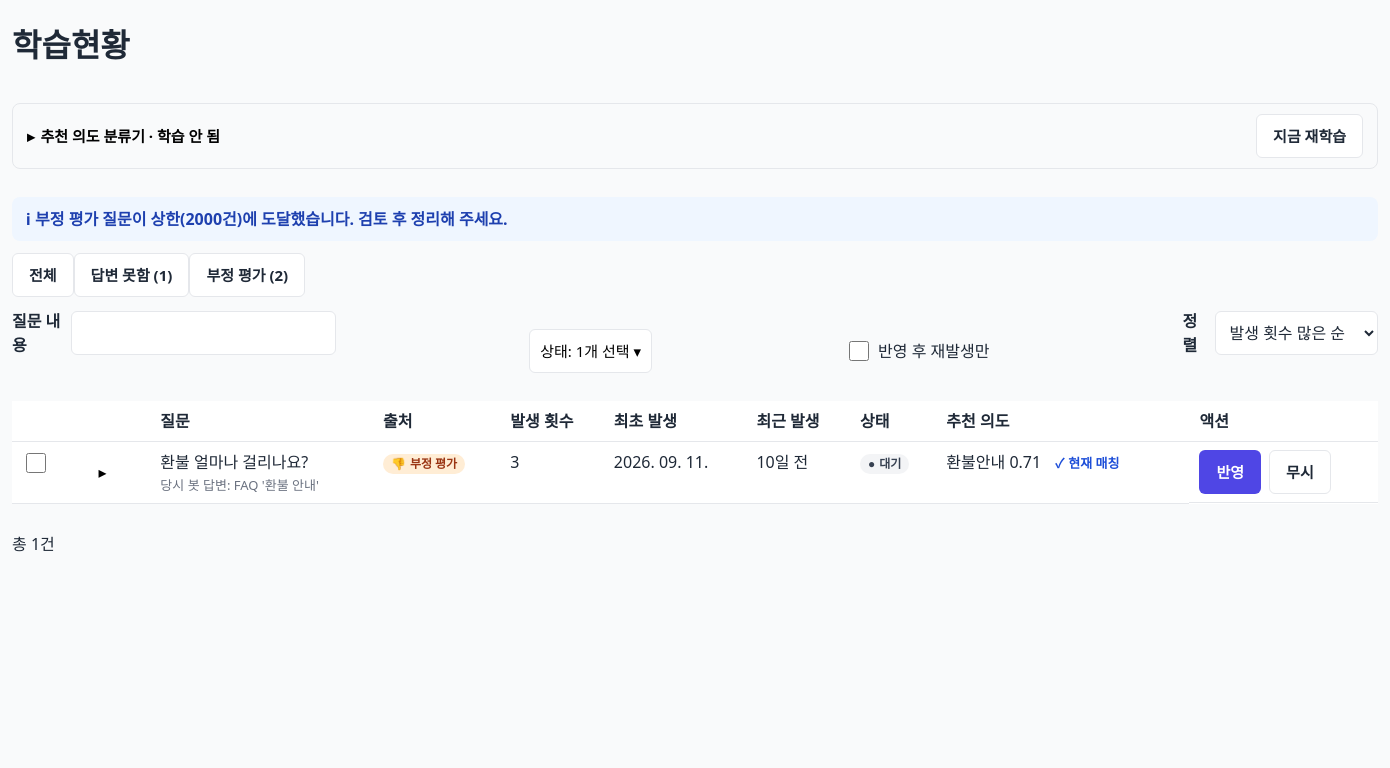
Test case: LearningQueuePage — 부정 평가 소스 확장(No.44) › 부정 평가 행을 펼치면 당시 봇 답변·현재 매칭 배지·정확 집계 캡션과 활성화된 "직접 수정 완료"가 보인다
The width and height of the screenshot is (1390, 768).
Expected: the text "환불 얼마나 걸리나요?" is shown, x1=160 y1=451 x2=308 y2=473
What coordinates should you click on to do the following:
click the button named "상세 펼치기"
I would click on:
 (103, 472)
Its box is x1=81 y1=450 x2=125 y2=494.
(page scrolled)
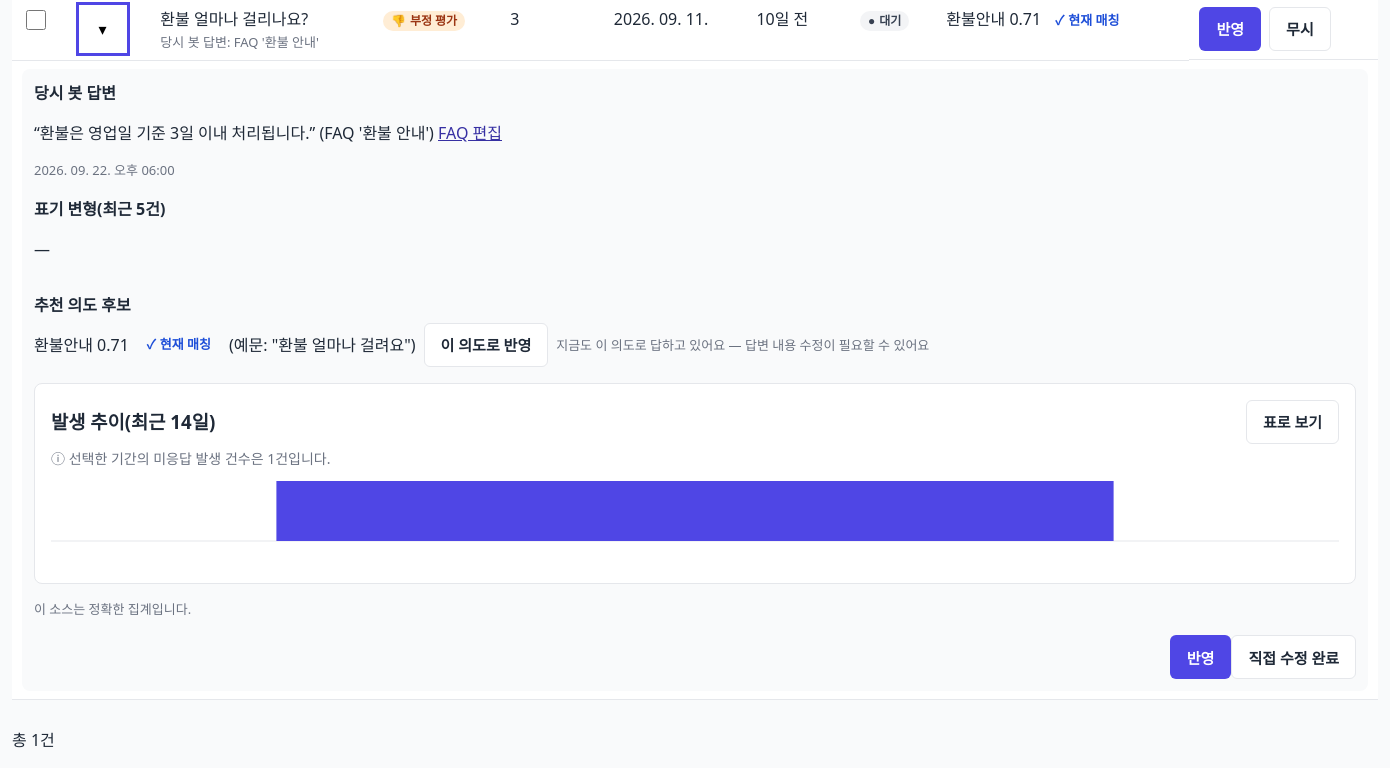
Result: the text "“환불은 영업일 기준 3일 이내 처리됩니다.” (FAQ '환불 안내') FAQ 편집" is shown at x1=34 y1=122 x2=502 y2=144
Result: the text "이 소스는 정확한 집계입니다." is shown at x1=34 y1=600 x2=191 y2=618
Result: the button "직접 수정 완료" is enabled at x1=1231 y1=635 x2=1356 y2=679
